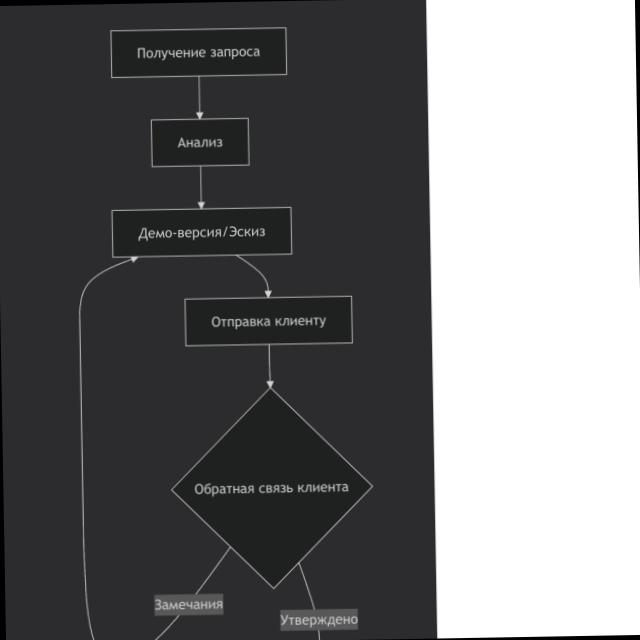arrow: (234, 255, 272, 298), (193, 77, 204, 119), (265, 344, 274, 388), (196, 167, 205, 209)
diamond: (169, 385, 375, 592)
rectangle: (112, 206, 293, 259), (111, 27, 286, 78), (185, 296, 352, 347), (151, 117, 249, 167)
